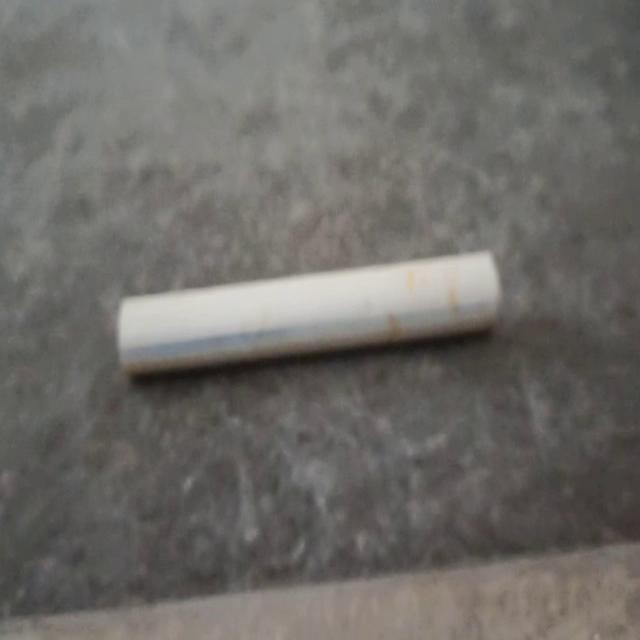Cube: (115, 247, 502, 378)
